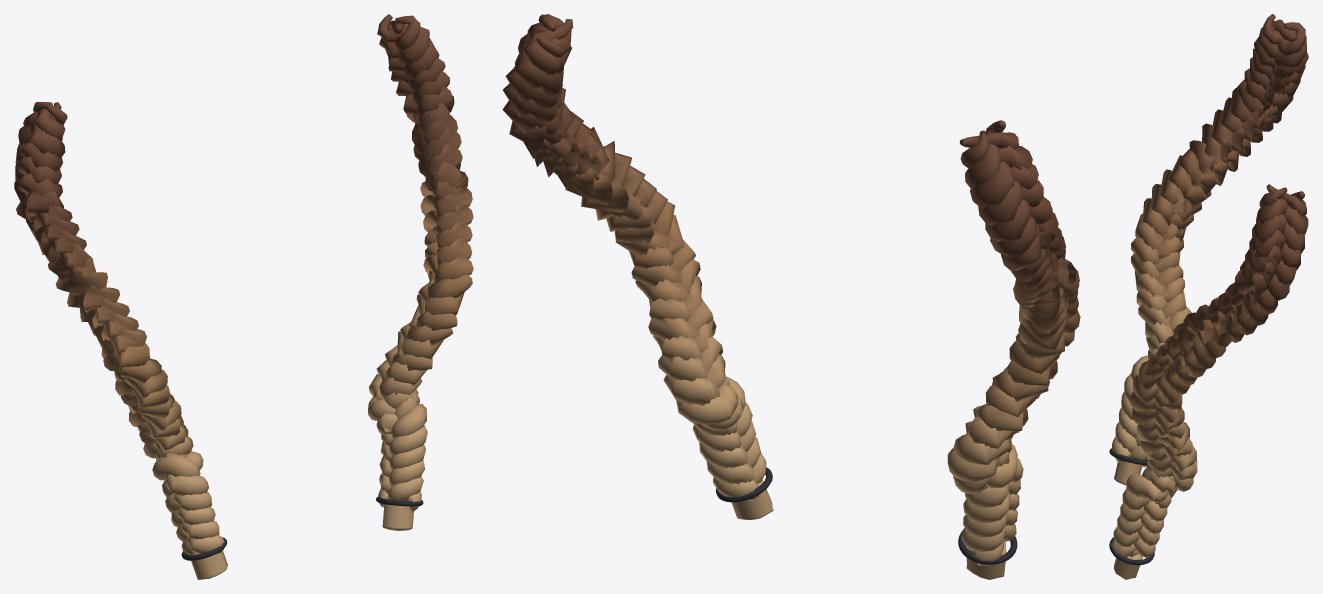
File: Ombre-6ae0a500200f253-hair.glb
3 views of the same model, side by side, from view 1: azimuth 30°, elevation 25°; view 2: azimuth 150°, elevation 25°; view 3: azimuth 270°, elevation 25° (orthographic). The views are drawn at different scales.
Visible parts, largest first — view 1: 226 hairLengths / Hair / chestnut226; view 2: 226 hairLengths / Hair / chestnut226, 226 hairLengths / Hair / ties226; view 3: 226 hairLengths / Hair / chestnut226, 226 hairLengths / Hair / ties226.
Boxes of the visible parts, box(x1,y1,x2,y2) form: 226 hairLengths / Hair / chestnut226: box(14, 14, 473, 579); 226 hairLengths / Hair / chestnut226: box(502, 14, 1080, 579); 226 hairLengths / Hair / ties226: box(716, 467, 1017, 564); 226 hairLengths / Hair / chestnut226: box(1111, 14, 1308, 579); 226 hairLengths / Hair / ties226: box(1109, 448, 1154, 565).
Size of the model in its own units: 1.09 by 1.06 by 0.444.
Materials: 2 (1 with a texture image).
